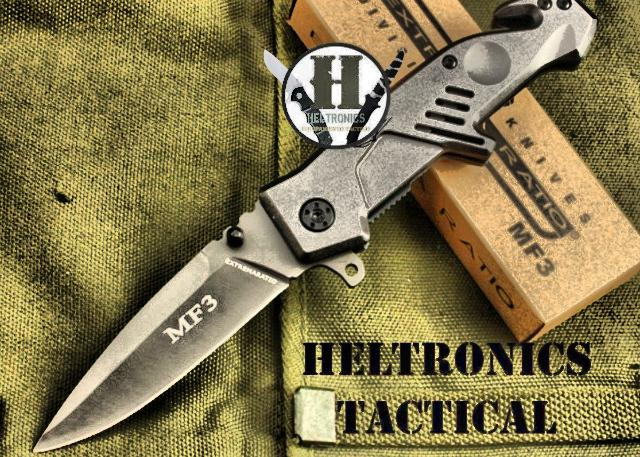knife: (20, 204, 294, 456)
